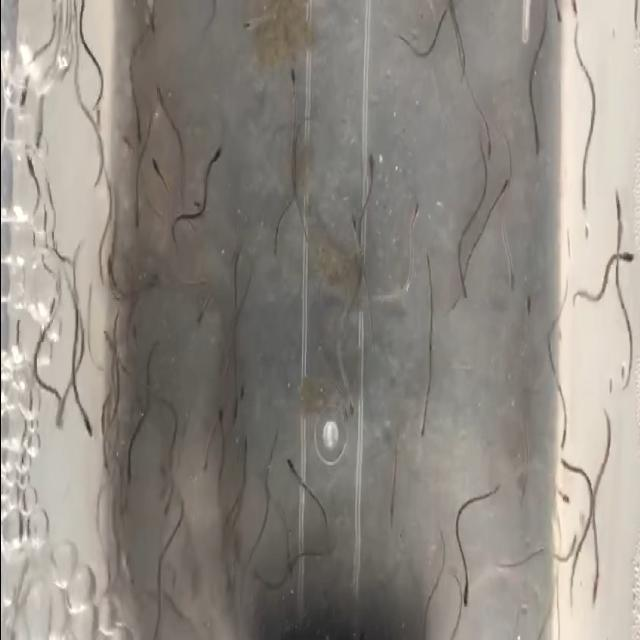active_glass_eel: (403, 186, 426, 240), (206, 402, 226, 452), (354, 156, 376, 195), (151, 146, 169, 193), (124, 448, 142, 492), (284, 442, 304, 479), (500, 250, 518, 291), (460, 576, 480, 612), (236, 5, 252, 48), (416, 408, 434, 446), (524, 123, 544, 157), (574, 170, 590, 212), (619, 241, 637, 277), (78, 409, 92, 454), (230, 386, 247, 420), (25, 158, 39, 198), (484, 122, 498, 160), (554, 450, 576, 474), (280, 525, 295, 559), (288, 56, 300, 98), (146, 260, 160, 296), (558, 423, 568, 471), (208, 144, 220, 184), (132, 108, 144, 148), (590, 548, 604, 582), (351, 212, 361, 256), (495, 176, 511, 200), (157, 471, 169, 503), (56, 393, 66, 431), (525, 291, 533, 330), (610, 190, 620, 220)
